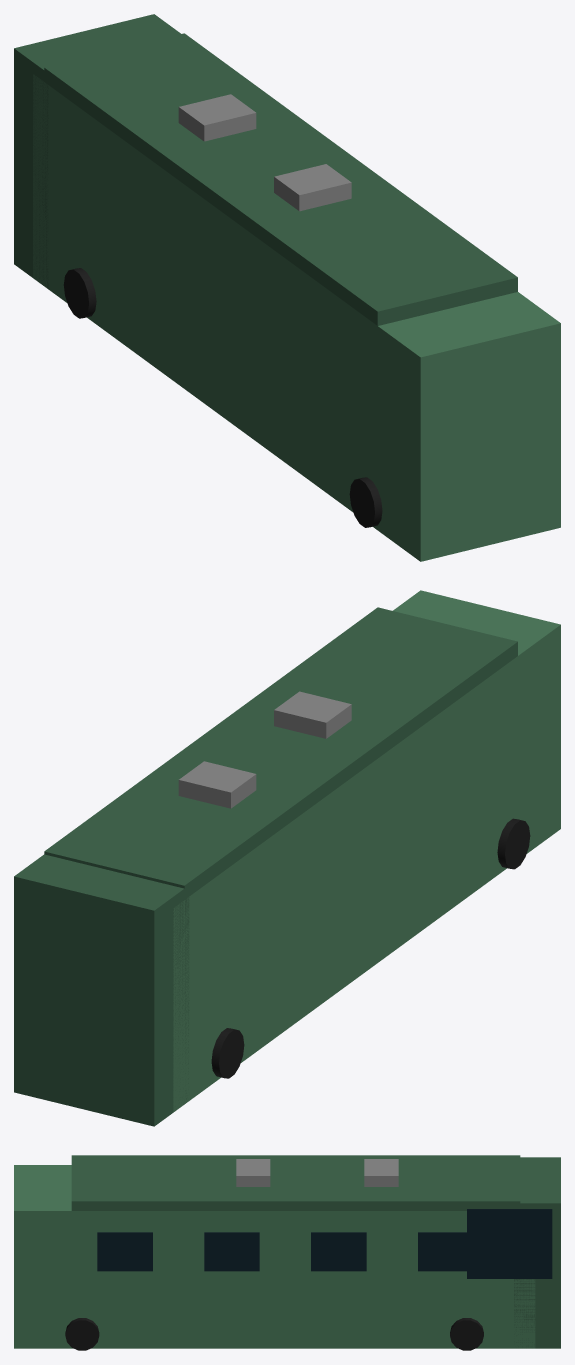
Rendered from rv-class-a.glb.
3 views of the same model, one above another, from view 1: azimuth 30°, elevation 25°; view 2: azimuth 150°, elevation 25°; view 3: azimuth 270°, elevation 25° (orthographic). The views are drawn at different scales.
Size of the model in its own units: 2.82 by 4.08 by 12.8.
